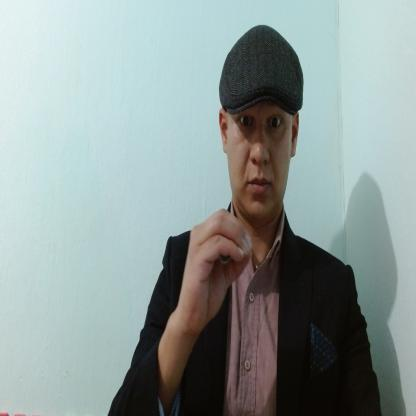O: (178, 208, 256, 331)
